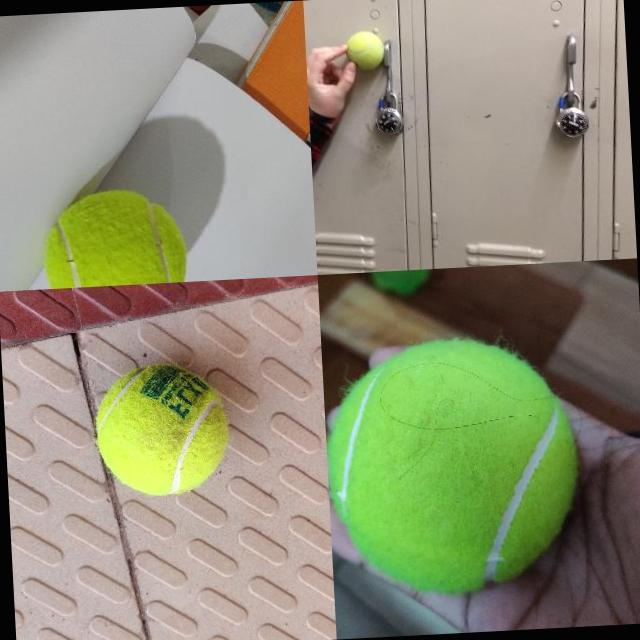Tennis Ball: (324, 338, 582, 598), (93, 362, 231, 498), (40, 185, 190, 288), (344, 29, 385, 72)
